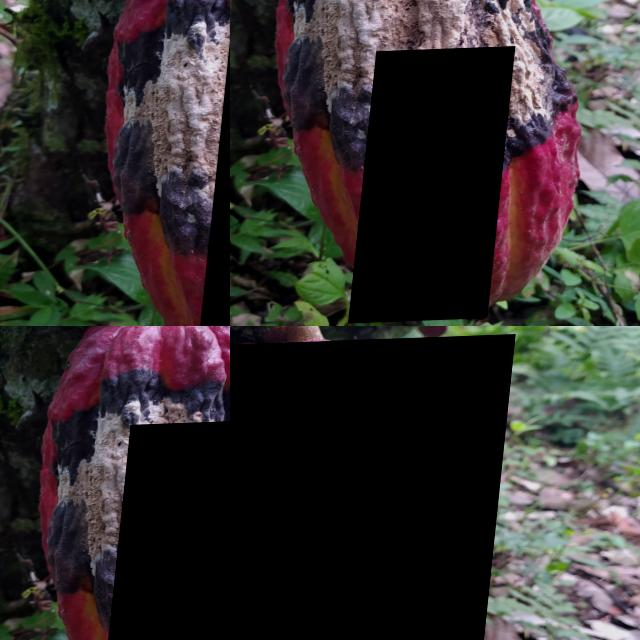Fitoftora: (307, 0, 510, 77)
Monilia: (230, 337, 517, 640), (361, 49, 522, 325), (105, 421, 230, 640)
